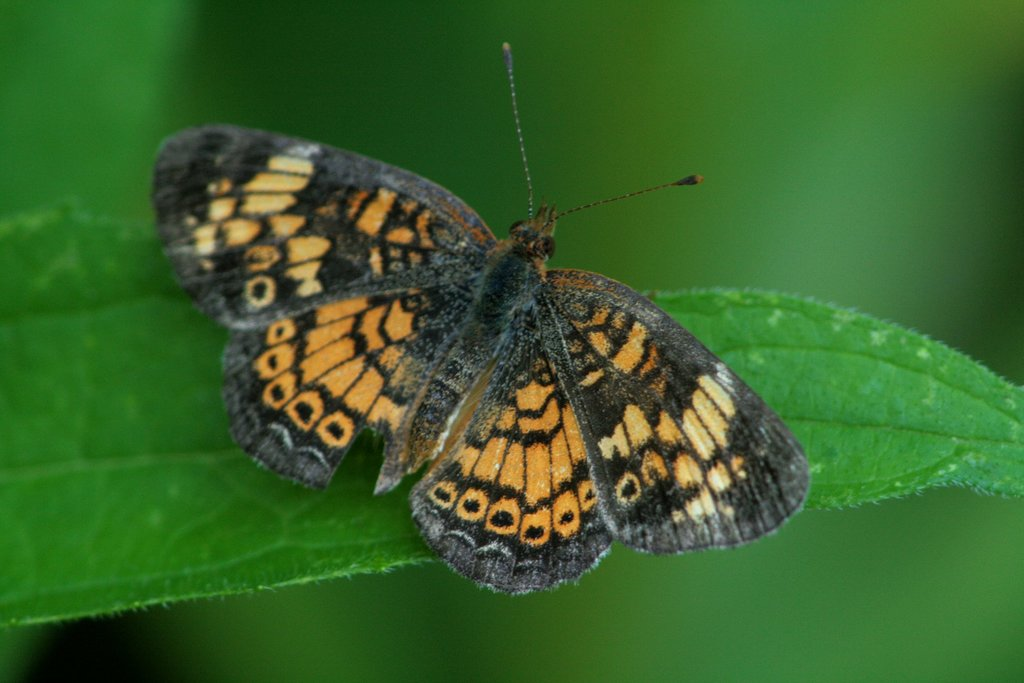Butterfly: (165, 71, 863, 608)
